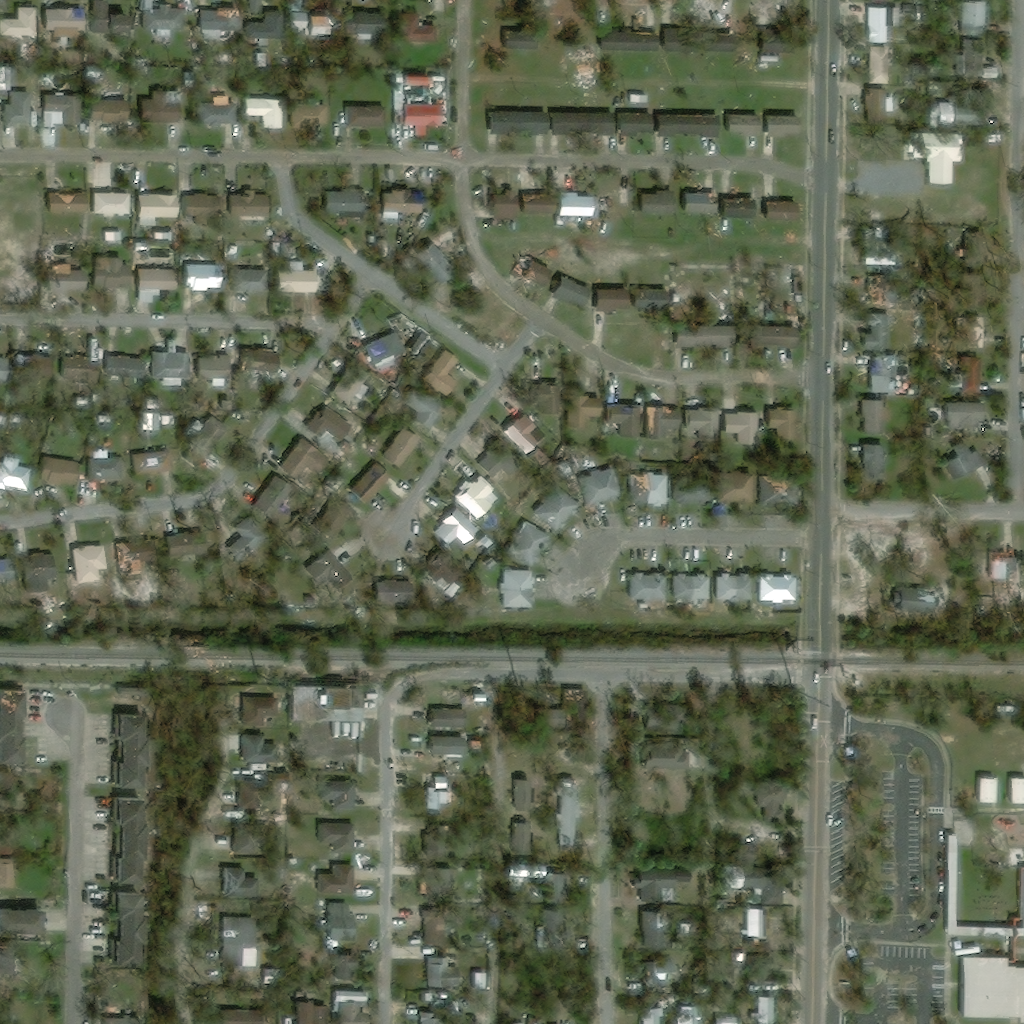destroyed: (577, 50, 591, 60)
major_damage: (113, 541, 152, 575), (512, 256, 551, 286), (981, 551, 1015, 577), (865, 276, 895, 305), (681, 190, 714, 212)
minor_damage: (631, 869, 690, 902), (195, 4, 238, 39), (893, 585, 936, 617), (92, 0, 131, 33), (238, 349, 276, 379), (43, 264, 81, 294), (605, 406, 638, 438), (237, 781, 270, 812), (645, 408, 677, 438), (87, 453, 119, 483), (534, 910, 561, 945), (417, 868, 451, 892), (655, 115, 686, 139), (764, 198, 796, 221), (632, 289, 665, 311), (686, 115, 717, 138), (520, 192, 552, 214), (722, 196, 754, 218), (562, 692, 585, 721), (628, 473, 645, 506), (758, 476, 776, 504), (505, 32, 534, 49)
no_damage: (959, 955, 1023, 1022), (110, 798, 148, 883), (283, 686, 364, 723), (112, 713, 149, 787), (908, 135, 962, 184), (110, 891, 146, 964), (452, 465, 496, 520), (303, 547, 352, 593), (724, 868, 779, 905), (431, 508, 476, 553), (0, 690, 26, 765), (278, 439, 326, 479), (402, 98, 445, 140), (251, 476, 292, 520), (348, 462, 390, 504), (398, 387, 439, 430), (183, 416, 224, 459), (44, 0, 84, 44), (501, 415, 543, 455), (91, 259, 129, 303), (219, 919, 253, 968), (149, 342, 186, 387), (754, 778, 789, 824), (380, 428, 420, 468), (144, 0, 183, 41), (415, 243, 453, 285), (136, 184, 174, 226), (329, 364, 366, 407), (304, 407, 348, 443), (362, 333, 402, 372), (136, 263, 174, 304), (476, 442, 518, 479), (275, 262, 326, 292), (553, 780, 576, 846), (422, 351, 455, 396), (246, 12, 283, 50), (860, 356, 895, 396), (313, 499, 348, 539), (944, 443, 982, 479), (229, 517, 263, 557), (866, 6, 901, 43), (938, 90, 973, 126), (0, 908, 45, 936), (41, 94, 78, 128), (642, 744, 689, 770), (70, 547, 103, 584), (0, 6, 38, 38), (227, 191, 265, 223), (550, 277, 589, 308), (335, 990, 371, 1023), (138, 92, 177, 122), (943, 317, 981, 347), (420, 552, 456, 583), (196, 97, 233, 127), (241, 697, 278, 727), (424, 948, 453, 986), (323, 190, 362, 218), (532, 498, 564, 532), (541, 487, 576, 518), (947, 357, 977, 393), (91, 94, 128, 123), (46, 188, 87, 214), (241, 100, 279, 128), (381, 191, 419, 219), (959, 0, 987, 38), (722, 413, 755, 445), (513, 521, 547, 552), (863, 87, 893, 122), (288, 99, 324, 128), (397, 15, 434, 43), (38, 458, 76, 485), (20, 554, 52, 586), (11, 356, 50, 382), (131, 451, 171, 476), (290, 9, 327, 36), (567, 395, 597, 428), (239, 735, 274, 763), (367, 583, 406, 608), (642, 706, 684, 729), (684, 409, 716, 439), (859, 400, 887, 434), (0, 457, 28, 491), (317, 866, 351, 894), (862, 315, 889, 350), (317, 782, 352, 809), (220, 869, 255, 896), (861, 239, 896, 266), (945, 402, 981, 428), (558, 192, 595, 217), (639, 907, 664, 944), (505, 539, 538, 567), (232, 826, 265, 854), (317, 825, 351, 852), (576, 472, 601, 508), (91, 194, 127, 219), (349, 12, 381, 40), (597, 192, 635, 215), (326, 904, 350, 940), (592, 469, 618, 502), (866, 48, 889, 85), (104, 356, 141, 379), (184, 266, 218, 291), (531, 383, 558, 414), (2, 94, 27, 127), (737, 956, 765, 985), (538, 874, 564, 904), (190, 194, 214, 226), (759, 30, 792, 53), (725, 115, 758, 138), (594, 289, 627, 312), (194, 356, 227, 379), (162, 534, 196, 556), (485, 112, 516, 136), (550, 113, 581, 137), (344, 108, 383, 127), (701, 28, 733, 51), (639, 191, 671, 214), (767, 409, 793, 437), (618, 114, 651, 136), (765, 116, 798, 138), (490, 191, 515, 220), (516, 112, 547, 135), (581, 113, 612, 136), (663, 29, 695, 51), (429, 710, 467, 728), (643, 961, 672, 984), (497, 570, 532, 589), (295, 1001, 325, 1023), (429, 738, 465, 756), (715, 471, 734, 505), (644, 473, 663, 507), (863, 444, 883, 476), (232, 271, 264, 291), (598, 29, 627, 51), (423, 830, 445, 859), (423, 908, 440, 945), (59, 356, 85, 380), (744, 910, 767, 937), (511, 780, 531, 811), (703, 326, 731, 348), (733, 471, 751, 505), (497, 589, 531, 607), (626, 29, 655, 50), (329, 955, 354, 979), (768, 326, 795, 348), (741, 327, 768, 349), (677, 327, 704, 349), (672, 474, 690, 505), (775, 475, 794, 503), (627, 573, 646, 600), (774, 574, 793, 601), (670, 574, 689, 600), (713, 574, 732, 600), (101, 1010, 139, 1023), (756, 574, 774, 601), (978, 778, 998, 802), (645, 573, 663, 599), (424, 793, 450, 811), (0, 950, 23, 970), (758, 996, 775, 1023), (689, 574, 706, 599), (690, 479, 706, 505), (732, 574, 748, 599), (512, 824, 530, 846), (219, 1011, 252, 1023), (638, 1007, 661, 1023), (1010, 778, 1023, 803), (0, 859, 10, 889), (404, 74, 433, 84), (138, 414, 156, 430), (0, 827, 10, 855), (0, 360, 10, 386), (678, 1007, 694, 1023), (427, 779, 447, 791), (0, 72, 11, 92), (103, 230, 121, 242), (117, 688, 144, 696), (0, 560, 10, 581), (629, 93, 646, 105), (468, 974, 482, 988), (421, 991, 435, 1004), (418, 1014, 437, 1023), (791, 277, 801, 293), (50, 417, 62, 430), (270, 243, 276, 267), (405, 1007, 417, 1019), (156, 232, 170, 242), (30, 52, 40, 65), (435, 0, 448, 10), (587, 929, 601, 938), (745, 64, 764, 70), (423, 86, 432, 97), (158, 417, 170, 425), (714, 1018, 733, 1023), (717, 295, 726, 305), (6, 417, 17, 424), (134, 243, 142, 252), (74, 399, 84, 406), (96, 417, 107, 423), (382, 370, 390, 378), (123, 243, 131, 251), (795, 295, 802, 304), (635, 604, 645, 609), (912, 312, 918, 320), (41, 77, 47, 85), (906, 391, 917, 395), (667, 231, 672, 238), (526, 1018, 531, 1023)
